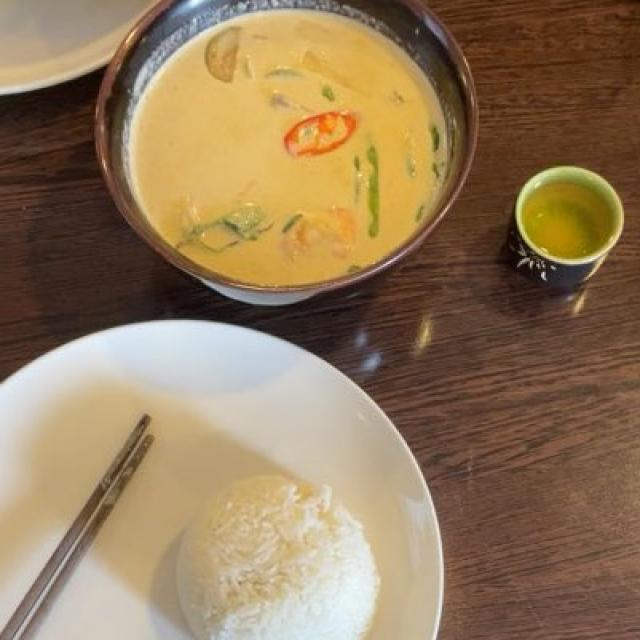curry-vegetarian: (127, 10, 443, 286)
rice-jasmin: (176, 478, 377, 633)
tea: (526, 188, 601, 255)
